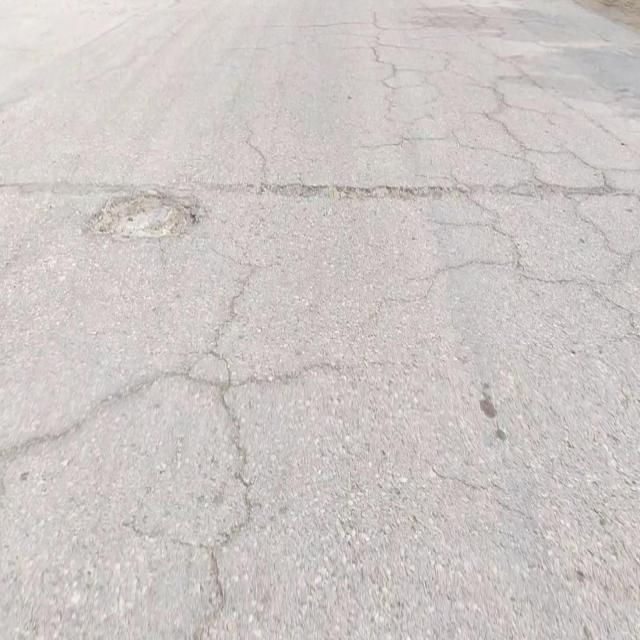Potholes: (84, 191, 195, 245)
